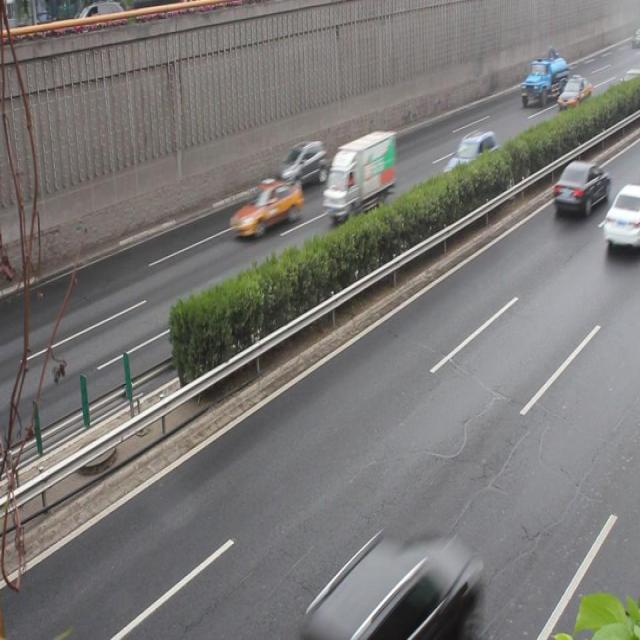bus: (322, 130, 395, 215), (519, 54, 565, 104)
car: (230, 177, 300, 240), (552, 158, 608, 215), (443, 129, 498, 185), (274, 139, 325, 188), (602, 181, 640, 245), (556, 76, 589, 110)
